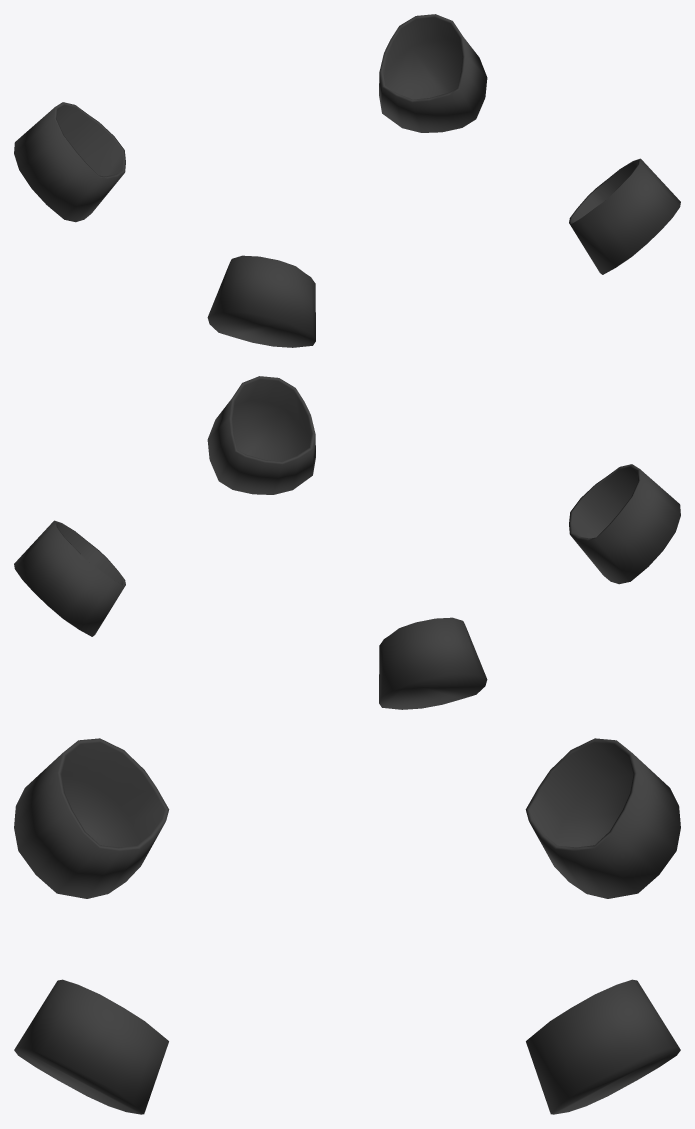
File: Brazier Horns Metal Bands.fbx
3 views of the same model, one above another, from view 1: azimuth 30°, elevation 25°; view 2: azimuth 150°, elevation 25°; view 3: azimuth 270°, elevation 25° (orthographic). The views are drawn at different scales.
Visible parts, largest first — view 1: Horn Ring.002; view 2: Horn Ring.002; view 3: Horn Ring.002.
Boxes of the visible parts, x1,y1,x2,y2 form: Horn Ring.002: (14, 14, 680, 347); Horn Ring.002: (14, 376, 680, 709); Horn Ring.002: (14, 738, 680, 1114).
Size of the model in its own units: 105 by 22.87 by 100.
